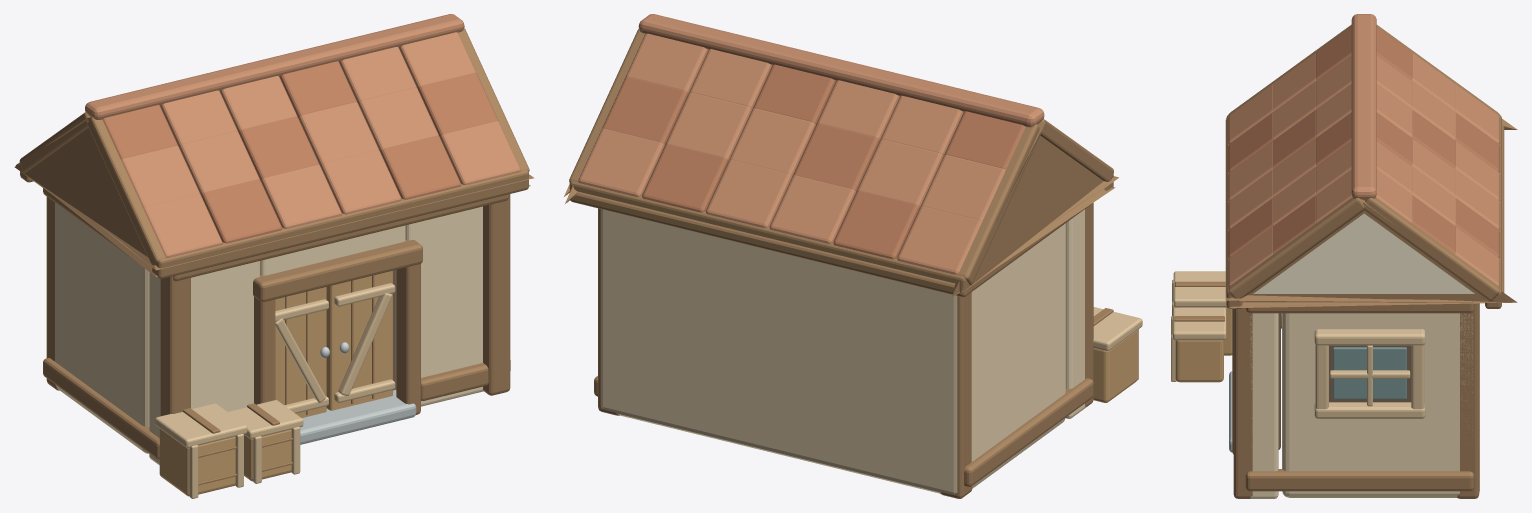
Rendered from building_warehouse.glb.
3 renders of one model, left to right at view 1: azimuth 30°, elevation 25°; view 2: azimuth 150°, elevation 25°; view 3: azimuth 270°, elevation 25°, orthographic. The views are drawn at different scales.
Parts seen in each view (by area): view 1: Barn | rear walls, Barn | front wall bay, Barn | front wall bay.001, Barn | rounded ridge cap, Barn | eaves fascia, Barn | roof underlay, Barn | inset double door.001, Barn | front corner post.001, Barn | entrance lintel, Barn | front corner post, Barn | inset double door, Barn | entrance jamb.001 (+37 smaller); view 2: Barn | rear walls, Barn | roof underlay, Barn | rounded ridge cap, Barn | eaves fascia.001, Barn | roof tile.033, Barn | roof tile.034, Barn | roof tile.035, Barn | roof tile.031, Barn | roof tile.032, Barn | roof tile.030, Barn | roof tile.026, Barn | roof tile.027 (+20 smaller); view 3: Barn | rear walls, Barn | side gable infill, Barn | roof underlay, Barn | side horizontal beam.002, Barn | rounded ridge cap, Barn | front wall bay.001, Barn | front corner post.001, Barn | rear corner post.001, Barn | side window glass, Barn | gable rake.003, Barn | gable rake.001, Barn | small crate | box (+49 smaller).
Part boxes in pixels (left/top/right/bottom): Barn | rear walls: left=55, top=202, right=149, bottom=453; Barn | front wall bay: left=149, top=261, right=260, bottom=465; Barn | front wall bay.001: left=395, top=206, right=483, bottom=406; Barn | rounded ridge cap: left=85, top=14, right=464, bottom=119; Barn | eaves fascia: left=152, top=170, right=528, bottom=278; Barn | roof underlay: left=14, top=26, right=534, bottom=277; Barn | inset double door.001: left=326, top=270, right=392, bottom=410; Barn | front corner post.001: left=483, top=194, right=510, bottom=395; Barn | entrance lintel: left=253, top=240, right=422, bottom=301; Barn | front corner post: left=160, top=276, right=190, bottom=415; Barn | inset double door: left=275, top=287, right=326, bottom=417; Barn | entrance jamb.001: left=396, top=263, right=420, bottom=414; Barn | rear walls: left=600, top=209, right=1065, bottom=495; Barn | roof underlay: left=564, top=121, right=1118, bottom=298; Barn | rounded ridge cap: left=638, top=14, right=1044, bottom=127; Barn | eaves fascia.001: left=569, top=181, right=972, bottom=297; Barn | roof tile.033: left=706, top=159, right=792, bottom=227; Barn | roof tile.034: left=642, top=144, right=728, bottom=212; Barn | roof tile.035: left=578, top=128, right=664, bottom=196; Barn | roof tile.031: left=833, top=190, right=919, bottom=259; Barn | roof tile.032: left=769, top=175, right=856, bottom=243; Barn | roof tile.030: left=897, top=206, right=982, bottom=274; Barn | roof tile.026: left=793, top=123, right=879, bottom=191; Barn | roof tile.027: left=729, top=108, right=815, bottom=176; Barn | rear walls: left=1282, top=303, right=1479, bottom=497; Barn | side gable infill: left=1253, top=213, right=1474, bottom=293; Barn | roof underlay: left=1225, top=119, right=1517, bottom=308; Barn | side horizontal beam.002: left=1245, top=469, right=1474, bottom=491; Barn | rounded ridge cap: left=1351, top=14, right=1376, bottom=200; Barn | front wall bay.001: left=1250, top=313, right=1278, bottom=498; Barn | front corner post.001: left=1233, top=308, right=1252, bottom=498; Barn | rear corner post.001: left=1457, top=303, right=1479, bottom=498; Barn | side window glass: left=1333, top=347, right=1406, bottom=399; Barn | gable rake.003: left=1364, top=197, right=1499, bottom=301; Barn | gable rake.001: left=1228, top=197, right=1364, bottom=301; Barn | small crate | box: left=1175, top=340, right=1223, bottom=382.
Bounding box in the file's own units: 2.55 × 2.09 × 2.07.
